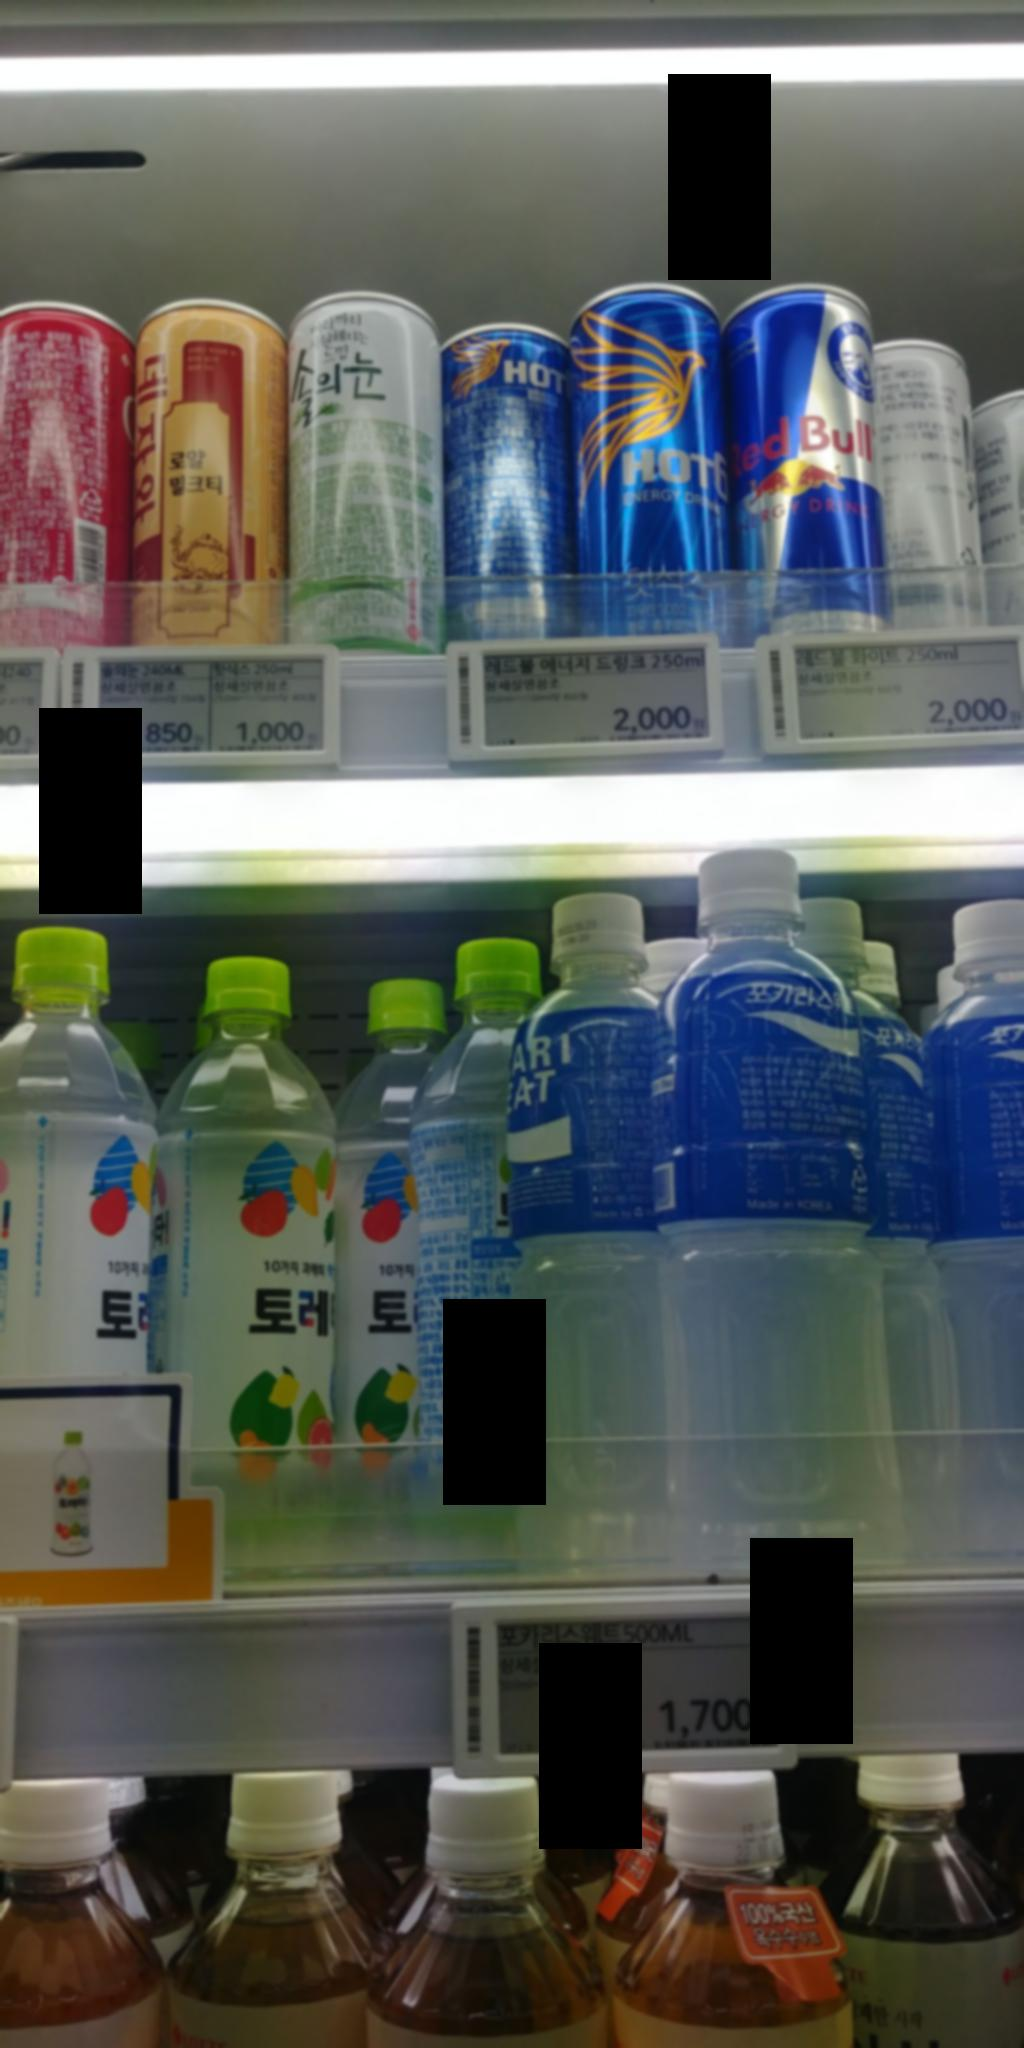hotsix_org: (562, 285, 738, 637), (427, 324, 590, 641)
pocarisweat: (650, 839, 913, 1575), (475, 888, 696, 1584)
toreta: (146, 950, 342, 1584), (0, 921, 165, 1374)
